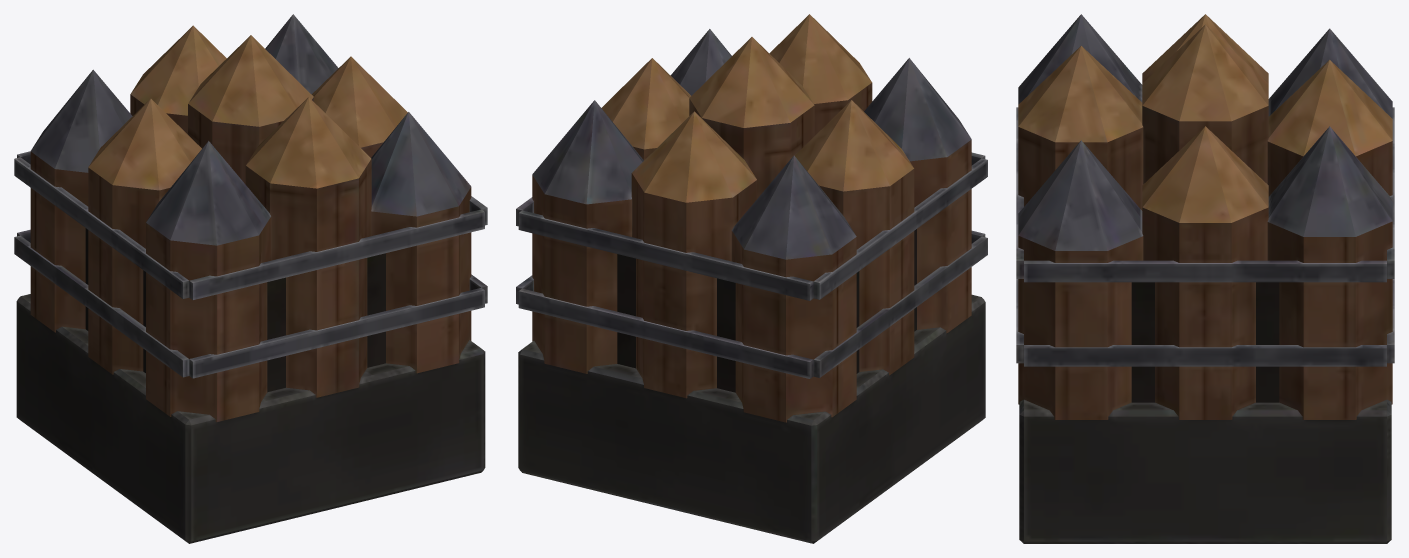
File: wall_orc.glb
3 renders of one model, left to right at view 1: azimuth 30°, elevation 25°; view 2: azimuth 150°, elevation 25°; view 3: azimuth 270°, elevation 25°, orthographic. The views are drawn at different scales.
Parts seen in each view (by area): view 1: Static_Mesh; view 2: Static_Mesh; view 3: Static_Mesh.
Part boxes in pixels (x1,y1,x2,y2): Static_Mesh: (14, 14, 487, 543); Static_Mesh: (516, 14, 987, 543); Static_Mesh: (1016, 14, 1394, 543).
Size of the model in its own units: 2.44 by 3.15 by 2.44.
Materials: 1 (1 with a texture image).
